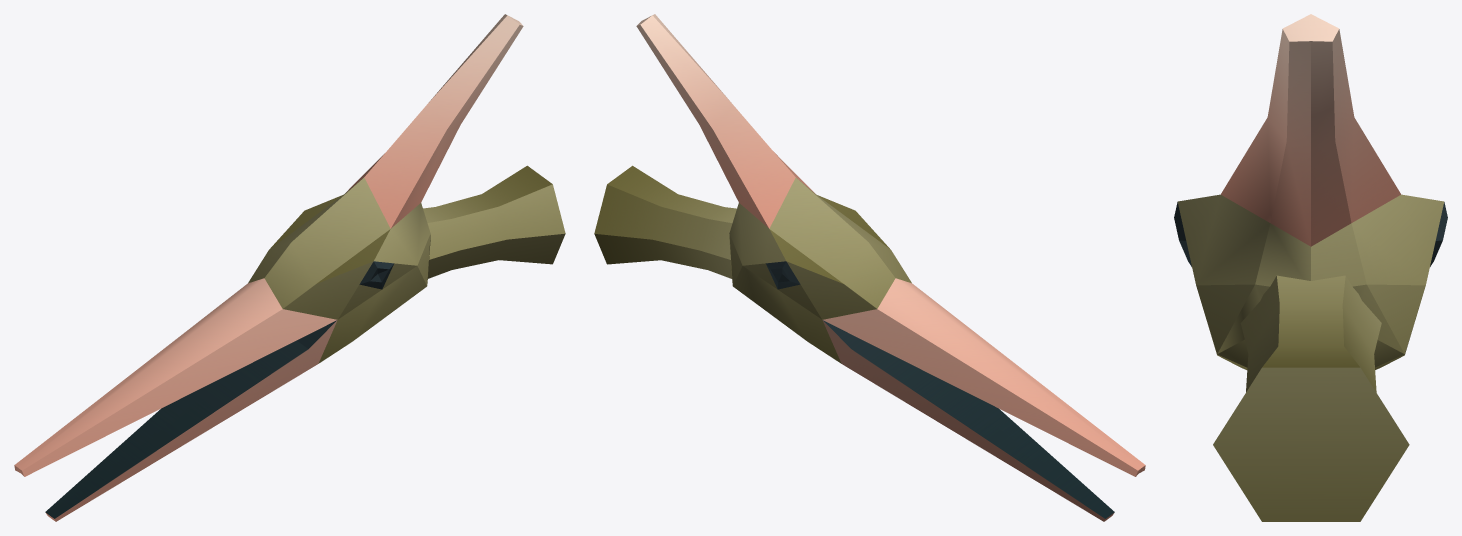
Rendered from Ptero_head.fbx.
The picture shows the model from 3 angles, left to right: view 1: azimuth 30°, elevation 25°; view 2: azimuth 150°, elevation 25°; view 3: azimuth 270°, elevation 25°; orthographic projection. The views are drawn at different scales.
Parts seen in each view (by area): view 1: Ptero_head; view 2: Ptero_head; view 3: Ptero_head.
Part boxes in pixels (x1,y1,x2,y2): Ptero_head: (14,14,565,521); Ptero_head: (594,14,1145,521); Ptero_head: (1174,14,1447,521).
Size of the model in its own units: 96.19 by 69.13 by 22.69.
